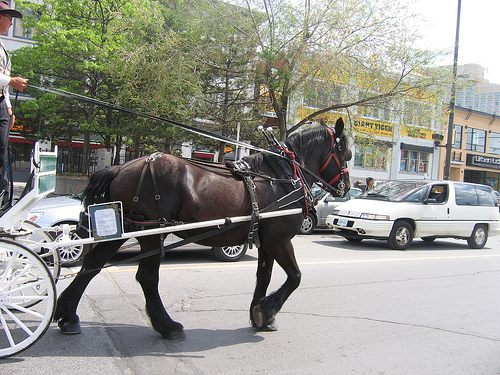horse: (46, 119, 353, 341)
